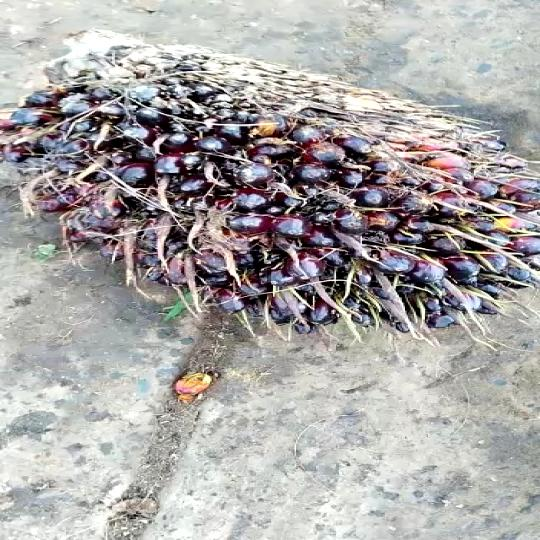mentah: (0, 47, 540, 335)
